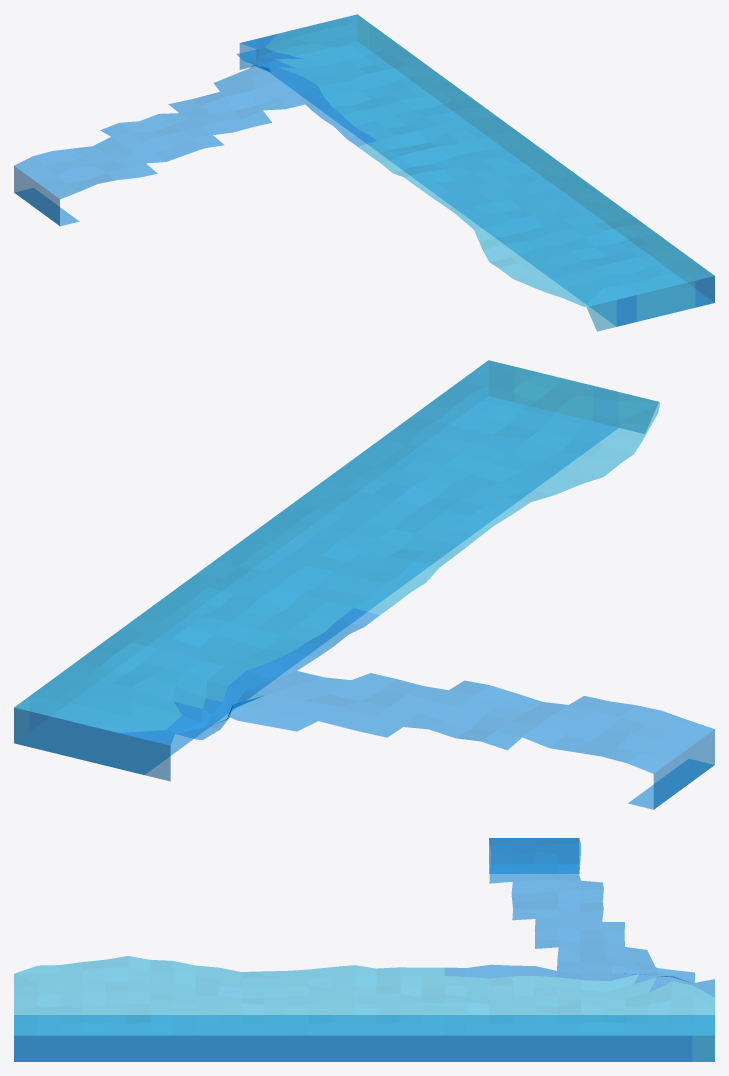
The model's file is WaterForBeach.fbx.
The picture shows the model from 3 angles, top to bottom: view 1: azimuth 30°, elevation 25°; view 2: azimuth 150°, elevation 25°; view 3: azimuth 270°, elevation 25°; orthographic projection. The views are drawn at different scales.
Parts seen in each view (by area): view 1: Plane.001; view 2: Plane.001; view 3: Plane.001.
Part boxes in pixels (box(x1,y1,x2,y2)): Plane.001: box(14, 14, 714, 331); Plane.001: box(14, 360, 714, 809); Plane.001: box(14, 838, 714, 1061).
Size of the model in its own units: 800 by 59.6 by 1200.
